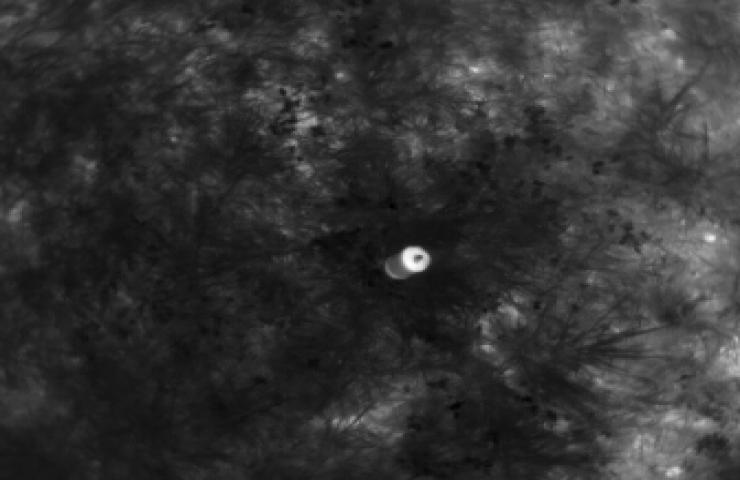landmines: (378, 239, 437, 285)
